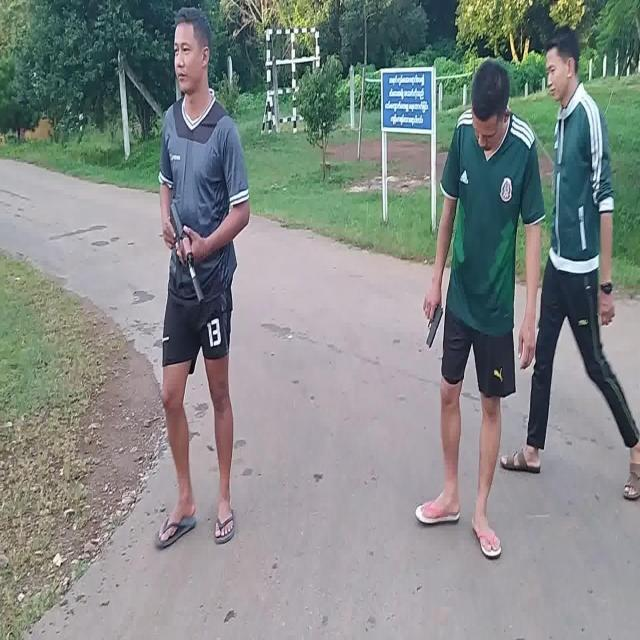gun: (170, 203, 205, 307), (426, 302, 442, 348)
